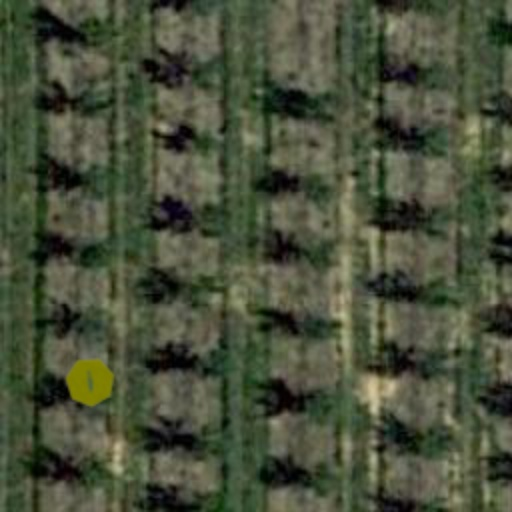heptagon: (58, 350, 122, 414)
